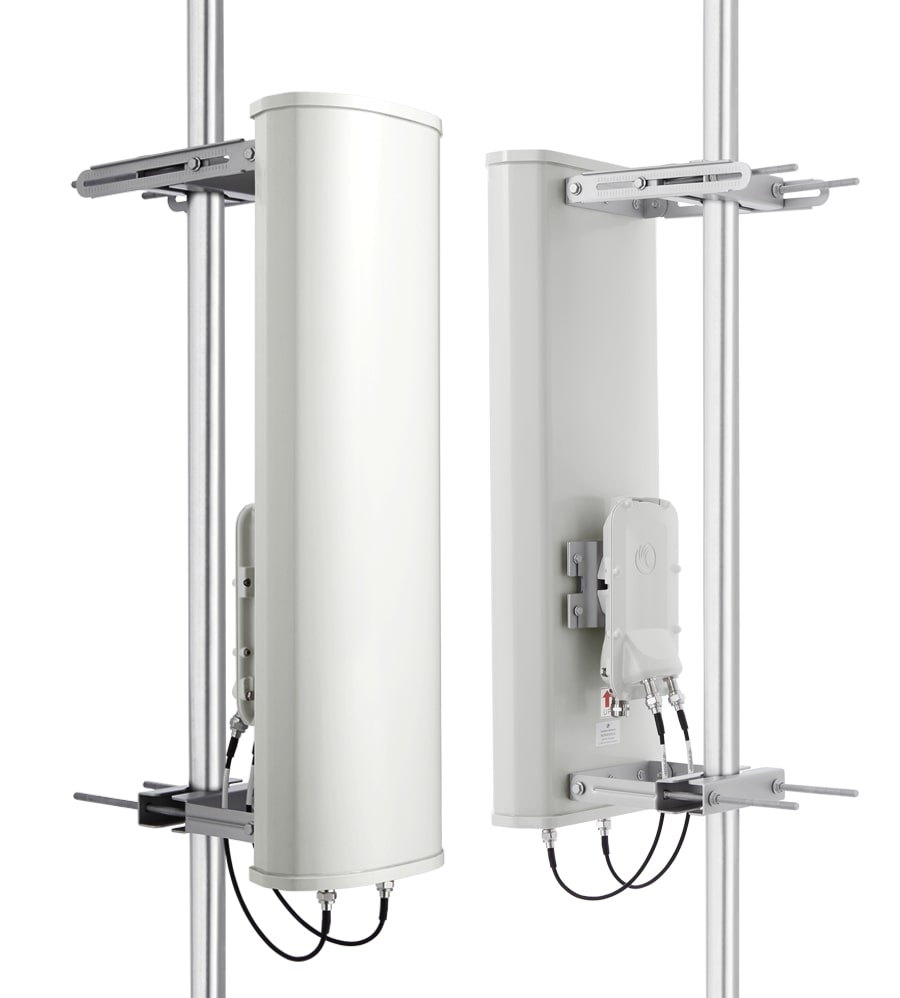sa: (207, 59, 459, 935), (471, 109, 706, 886)
